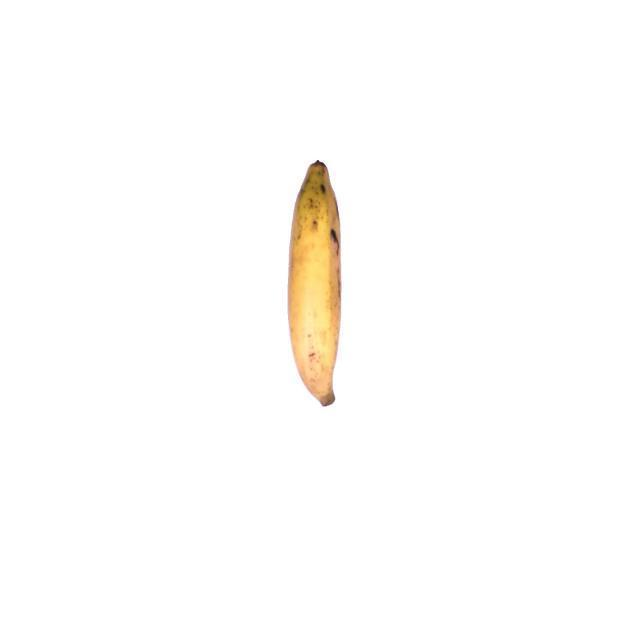Banana: (284, 154, 345, 410)
